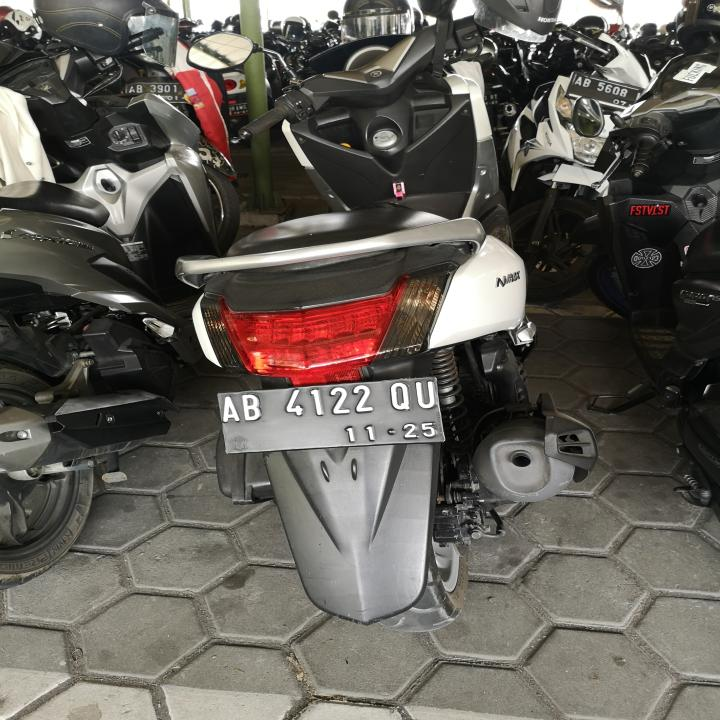plate: (211, 375, 450, 454), (564, 68, 646, 112), (124, 80, 190, 104)
